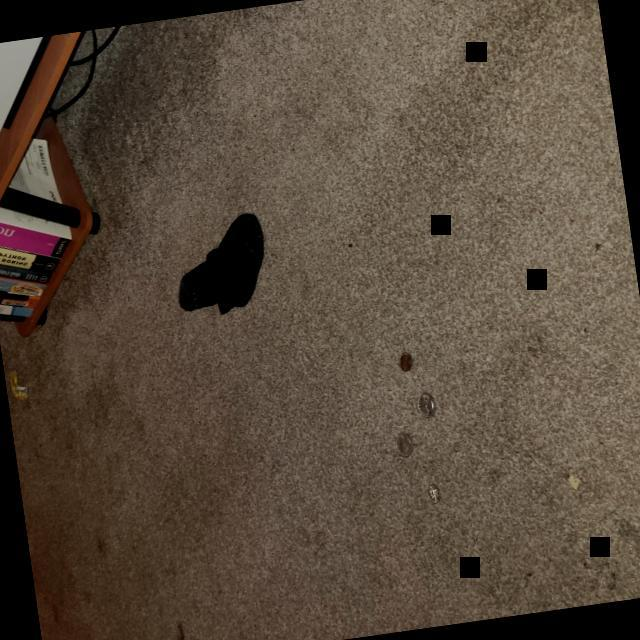Dime: (424, 480, 443, 504)
Penny: (398, 351, 414, 374)
Quarter: (412, 388, 440, 421), (392, 427, 418, 460)
